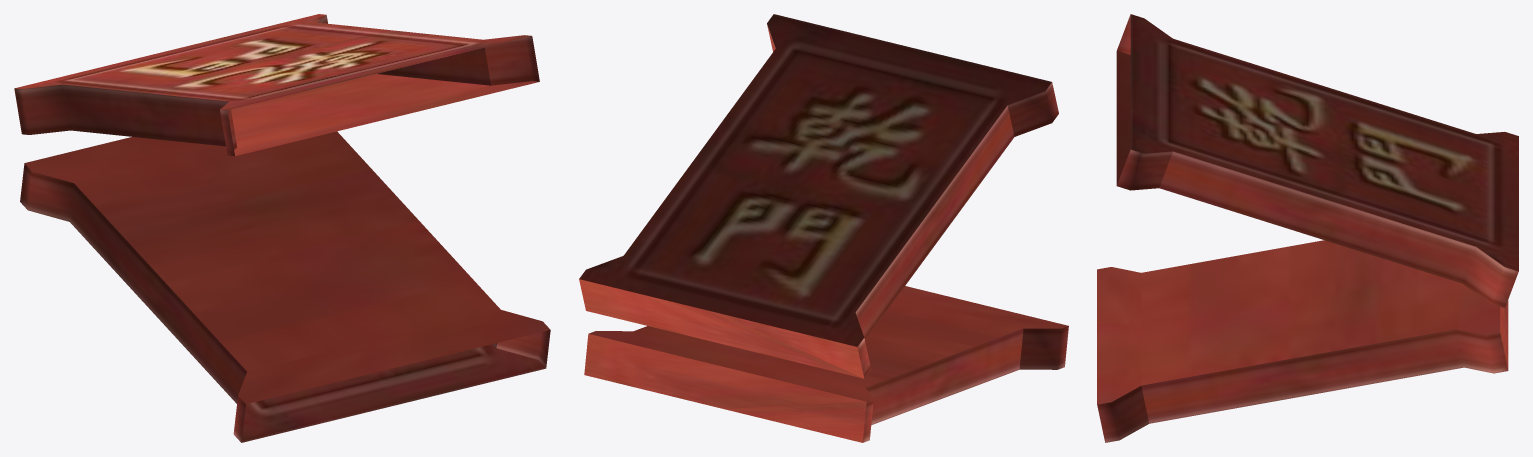
The picture shows the model from 3 angles, left to right: view 1: azimuth 30°, elevation 25°; view 2: azimuth 150°, elevation 25°; view 3: azimuth 270°, elevation 25°; orthographic projection. The views are drawn at different scales.
Visible parts, largest first — view 1: Object19; view 2: Object19; view 3: Object19.
Boxes of the visible parts, x1=… form: Object19: x1=14, y1=14, x2=550, y2=442; Object19: x1=579, y1=14, x2=1068, y2=442; Object19: x1=1097, y1=14, x2=1518, y2=442.
Bounding box in the file's own units: 26.33 × 26.62 × 34.65.
